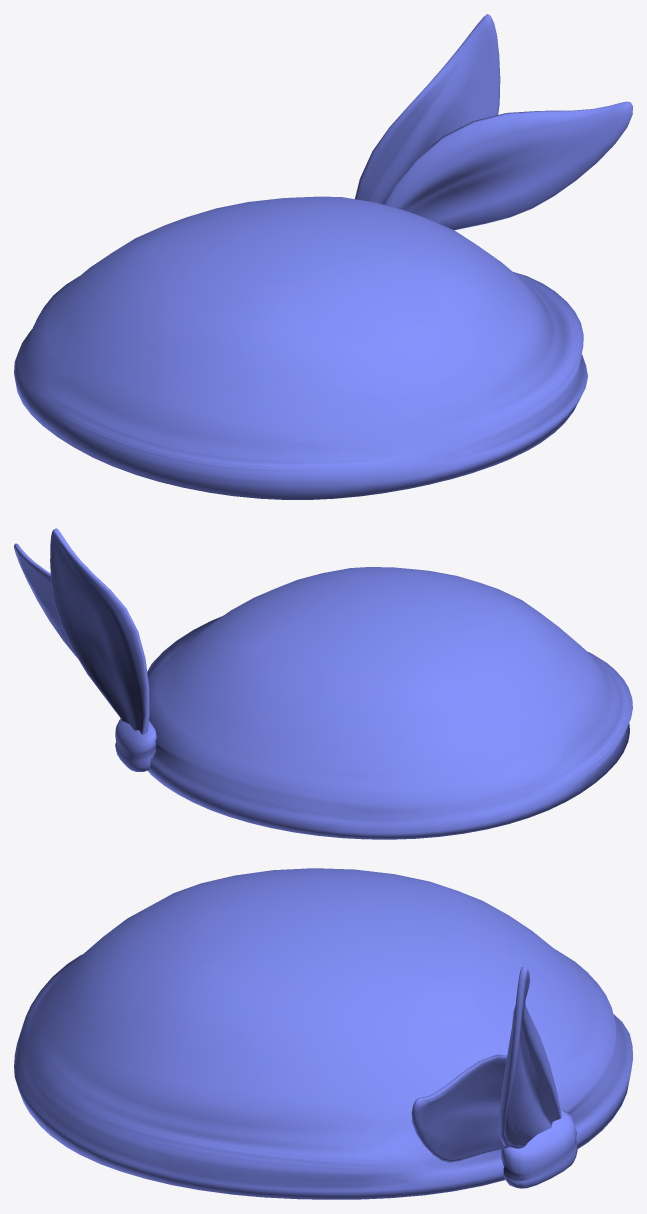
Rendered from Bandana Pirate.fbx.
The picture shows the model from 3 angles, top to bottom: view 1: azimuth 30°, elevation 25°; view 2: azimuth 150°, elevation 25°; view 3: azimuth 270°, elevation 25°; orthographic projection. The views are drawn at different scales.
Parts seen in each view (by area): view 1: Plimp; view 2: Plimp; view 3: Plimp.
Boxes of the visible parts, box(x1,y1,x2,y2) form: Plimp: box(14, 14, 632, 499); Plimp: box(14, 528, 632, 839); Plimp: box(14, 868, 632, 1199).
Size of the model in its own units: 66.6 by 24.27 by 52.07.
